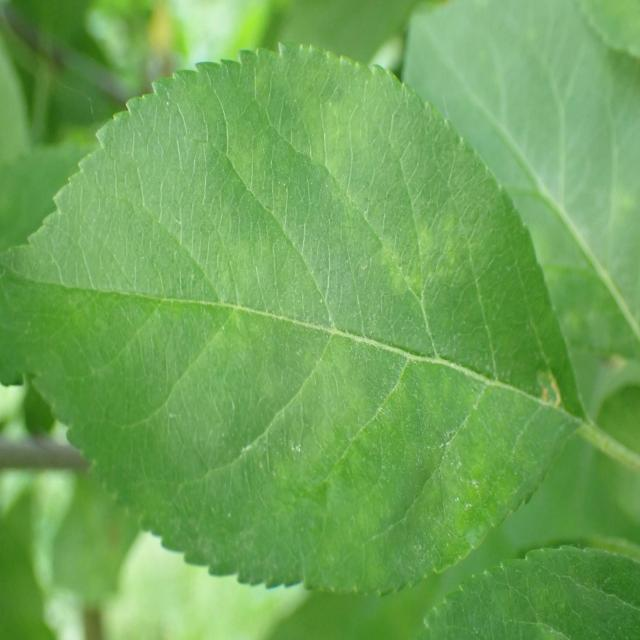scab: (47, 103, 538, 542)
